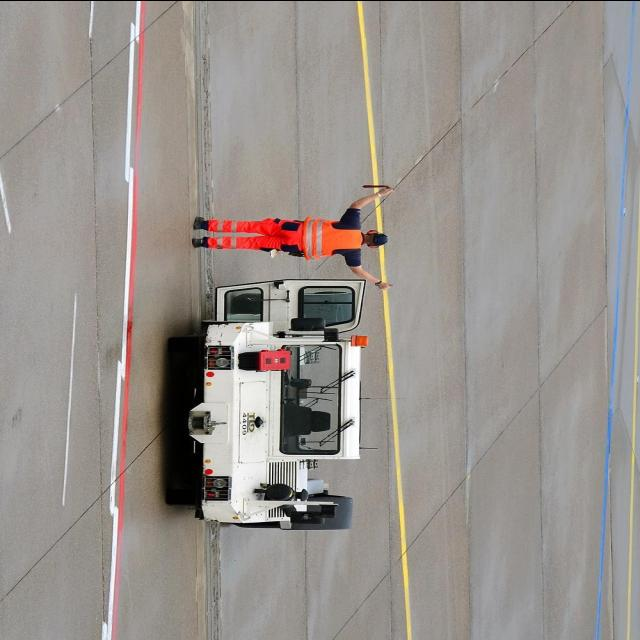jacket: (300, 211, 366, 263)
